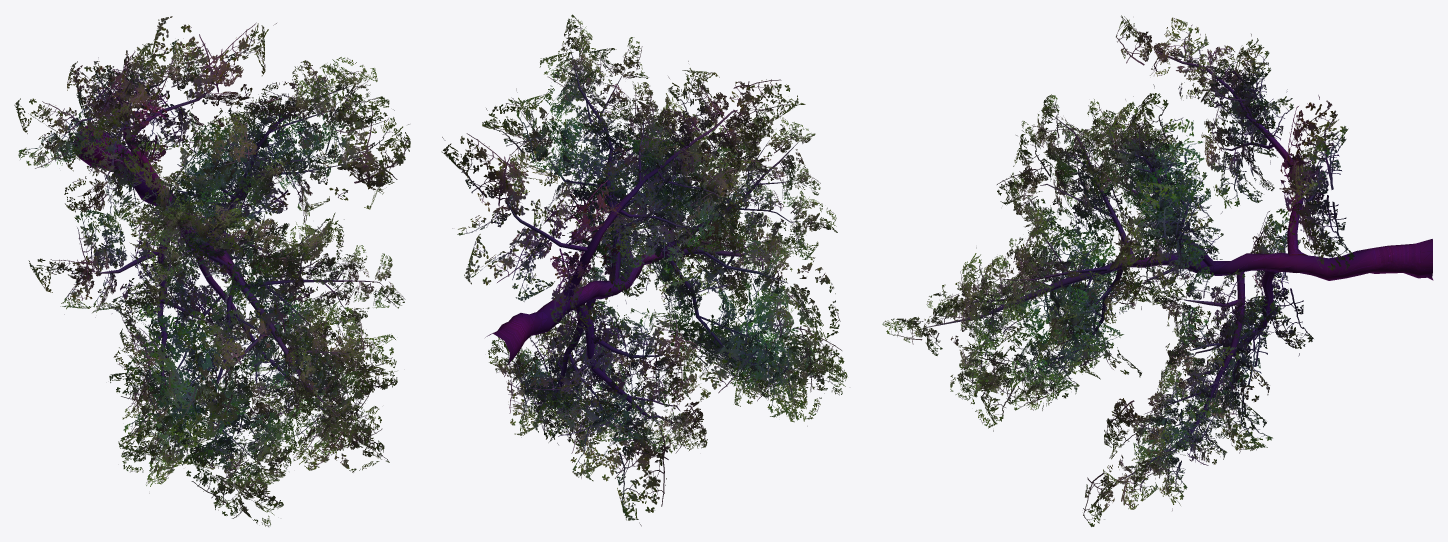
File: oak_big_oak_tree_002_lod0.glb
3 renders of one model, left to right at view 1: azimuth 30°, elevation 25°; view 2: azimuth 150°, elevation 25°; view 3: azimuth 270°, elevation 25°, orthographic. The views are drawn at different scales.
Parts seen in each view (by area): view 1: Big_oak_tree__002_LOD0; view 2: Big_oak_tree__002_LOD0; view 3: Big_oak_tree__002_LOD0.
Boxes of the visible parts, bbox=[...] form: Big_oak_tree__002_LOD0: bbox=[14, 16, 410, 526]; Big_oak_tree__002_LOD0: bbox=[441, 14, 847, 526]; Big_oak_tree__002_LOD0: bbox=[882, 15, 1433, 526].
Size of the model in its own units: 13.71 by 17.44 by 20.38.
2 materials, 2 textured.
